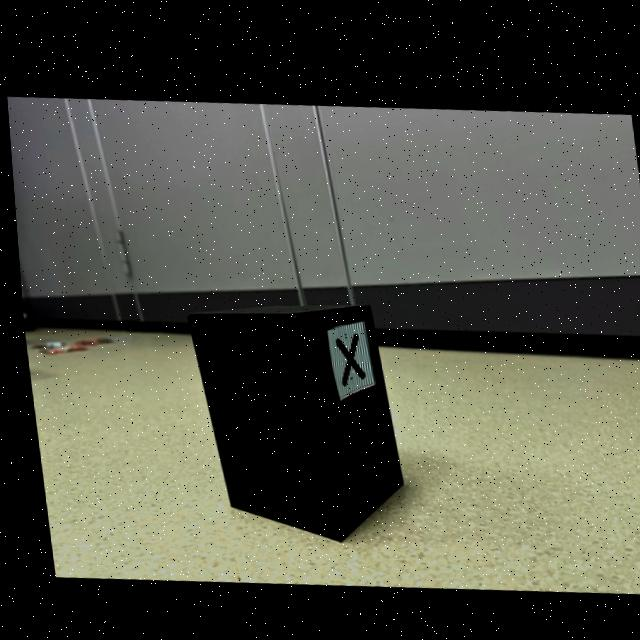X: (330, 328, 360, 380)
